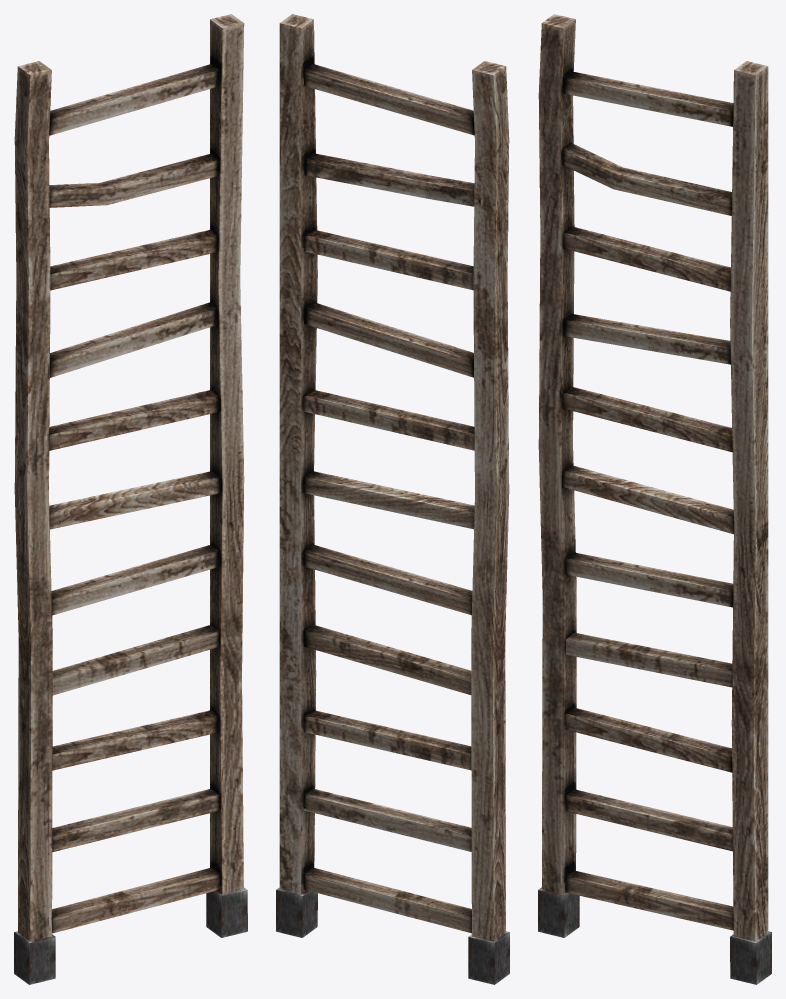
The model's file is ladder4m_tileable.dae.
3 renders of one model, left to right at view 1: azimuth 30°, elevation 25°; view 2: azimuth 150°, elevation 25°; view 3: azimuth 330°, elevation 25°, orthographic.
Visible parts, largest first — view 1: ladder_moveable_movea; view 2: ladder_moveable_movea; view 3: ladder_moveable_movea.
Part boxes in pixels (x1,y1,x2,y2): ladder_moveable_movea: [14, 14, 247, 984]; ladder_moveable_movea: [276, 14, 509, 984]; ladder_moveable_movea: [538, 14, 771, 984].
Bounding box in the file's own units: 1.01 × 4 × 0.1325.
